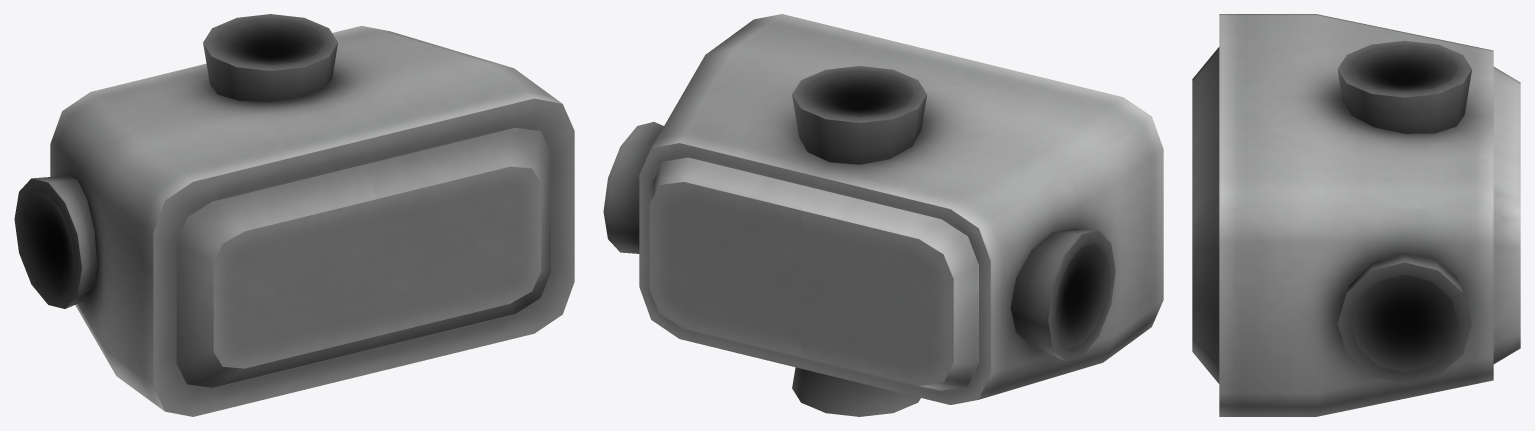
The model's file is Tantares_MOE_1.obj.
The picture shows the model from 3 angles, left to right: view 1: azimuth 30°, elevation 25°; view 2: azimuth 150°, elevation 25°; view 3: azimuth 270°, elevation 25°; orthographic projection.
Visible parts, largest first — view 1: Tantares_MOE_1; view 2: Tantares_MOE_1; view 3: Tantares_MOE_1.
Part boxes in pixels (bbox=[...]): Tantares_MOE_1: bbox=[14, 14, 574, 416]; Tantares_MOE_1: bbox=[603, 14, 1163, 416]; Tantares_MOE_1: bbox=[1192, 14, 1520, 416].
Bounding box in the file's own units: 0.2375 × 0.15 × 0.1525.
